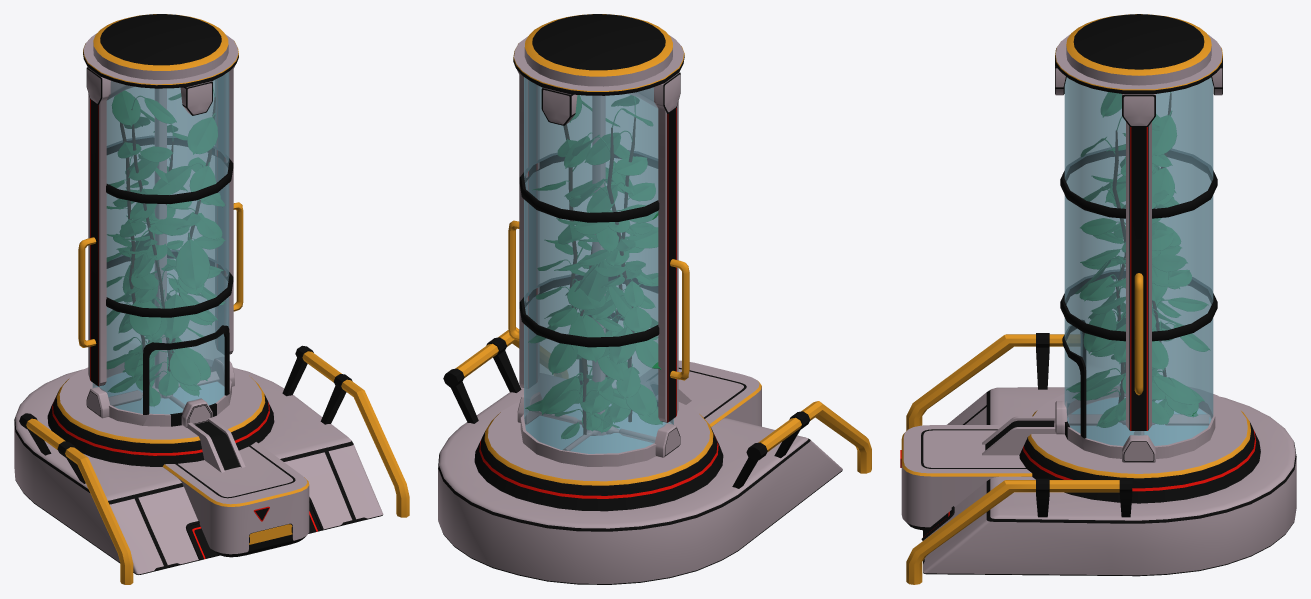
The model's file is Oxygen Farm 1.fbx.
3 views of the same model, side by side, from view 1: azimuth 30°, elevation 25°; view 2: azimuth 150°, elevation 25°; view 3: azimuth 270°, elevation 25° (orthographic). The views are drawn at different scales.
Parts seen in each view (by area): view 1: Oxygen_Farm_1; view 2: Oxygen_Farm_1; view 3: Oxygen_Farm_1.
Part boxes in pixels (bbox=[...]): Oxygen_Farm_1: bbox=[14, 14, 409, 584]; Oxygen_Farm_1: bbox=[438, 14, 871, 584]; Oxygen_Farm_1: bbox=[900, 14, 1296, 584].
Size of the model in its own units: 245 by 350 by 269.
